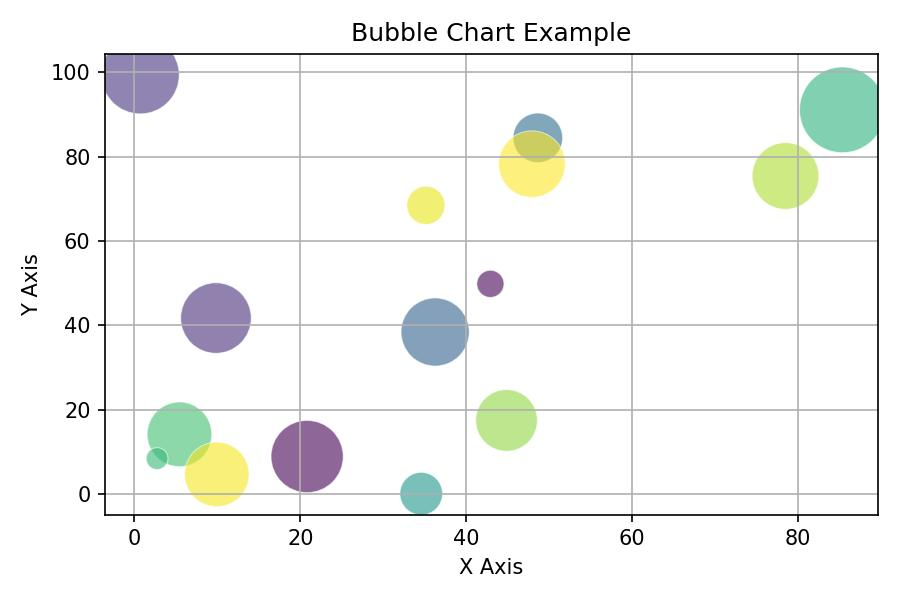axis: (91, 505, 881, 550), (49, 40, 114, 535)
circle: (804, 68, 875, 153), (272, 419, 345, 492), (181, 283, 251, 350), (105, 53, 181, 113), (496, 131, 564, 198), (401, 299, 470, 363), (146, 401, 214, 465), (752, 144, 816, 206), (189, 444, 251, 503), (477, 392, 538, 448), (513, 113, 565, 162), (409, 185, 446, 223), (476, 268, 506, 300)
